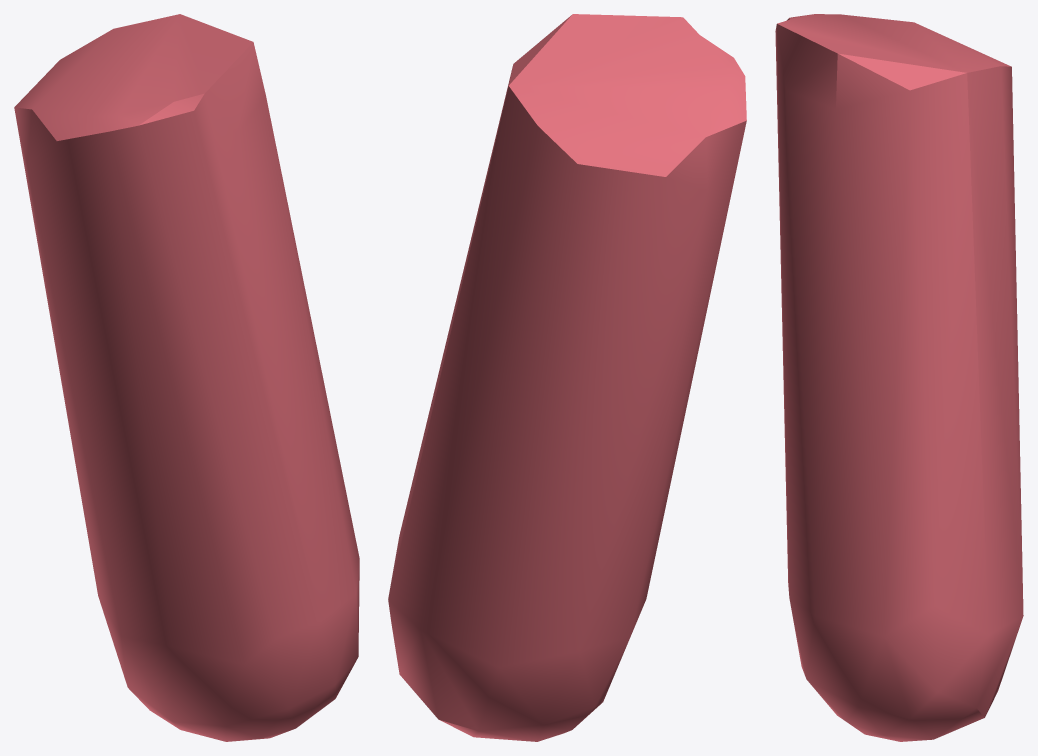
Rendered from fma3992_fj2307.glb.
3 views of the same model, side by side, from view 1: azimuth 30°, elevation 25°; view 2: azimuth 150°, elevation 25°; view 3: azimuth 270°, elevation 25° (orthographic). The views are drawn at different scales.
Visible parts, largest first — view 1: FMA3992_FJ2307; view 2: FMA3992_FJ2307; view 3: FMA3992_FJ2307.
Part boxes in pixels (bbox=[...]): FMA3992_FJ2307: bbox=[14, 14, 359, 741]; FMA3992_FJ2307: bbox=[388, 14, 746, 741]; FMA3992_FJ2307: bbox=[775, 14, 1023, 741].
Bounding box in the file's own units: 0.0027 × 0.00575 × 0.00194.
